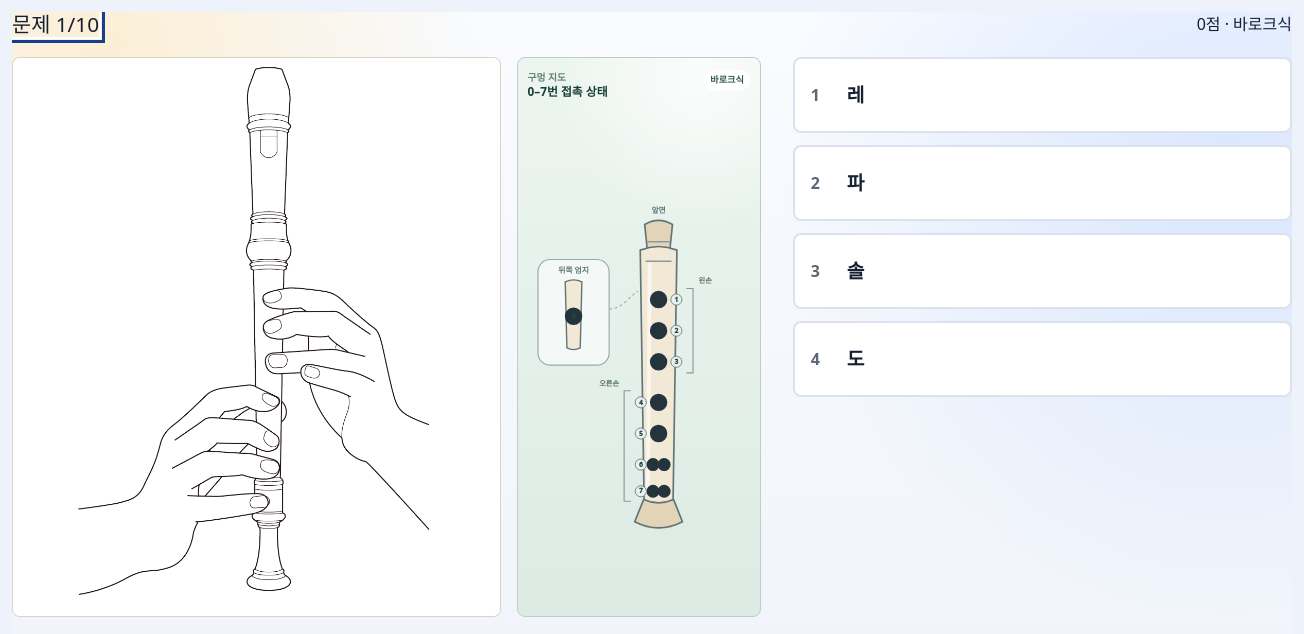
Scenario: locks identify input against double scoring and clears pending work on unmount
This screenshot has width=1304, height=634.
Later steps or results of the test are not shown.
Click the button with test id "quiz-option-1": x=815, y=95 [793, 57, 1292, 133]
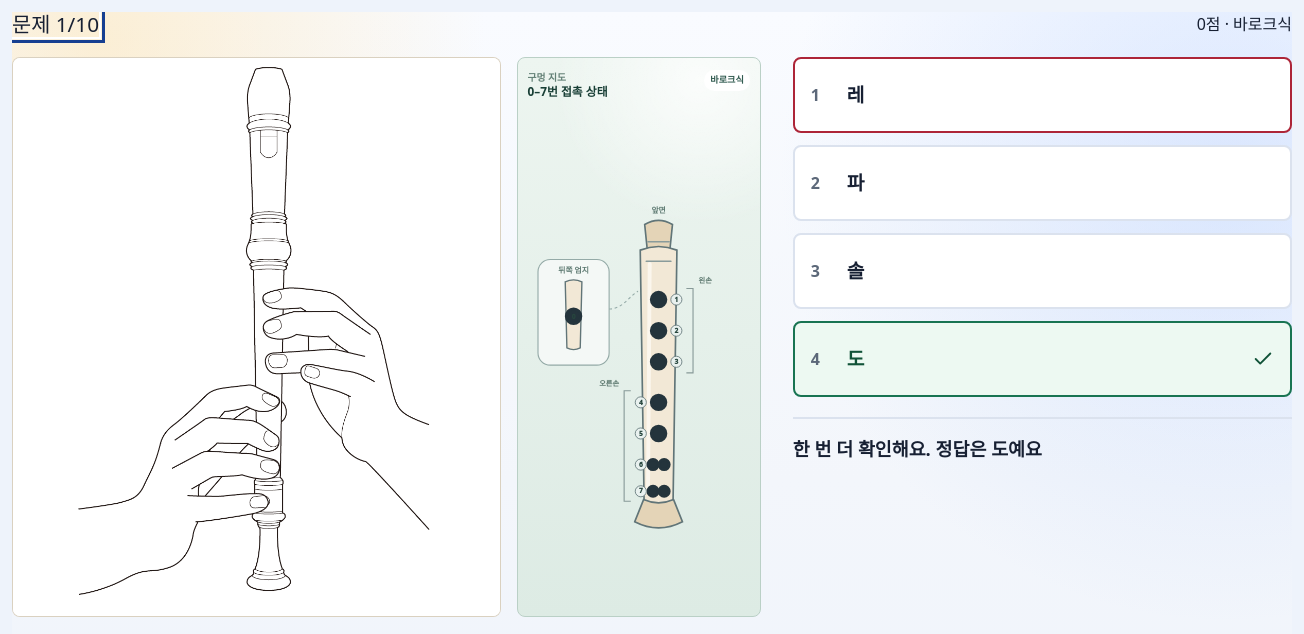
Click the button with test id "quiz-option-1": x=815, y=95 [793, 57, 1292, 133]
Wait 1000 ms
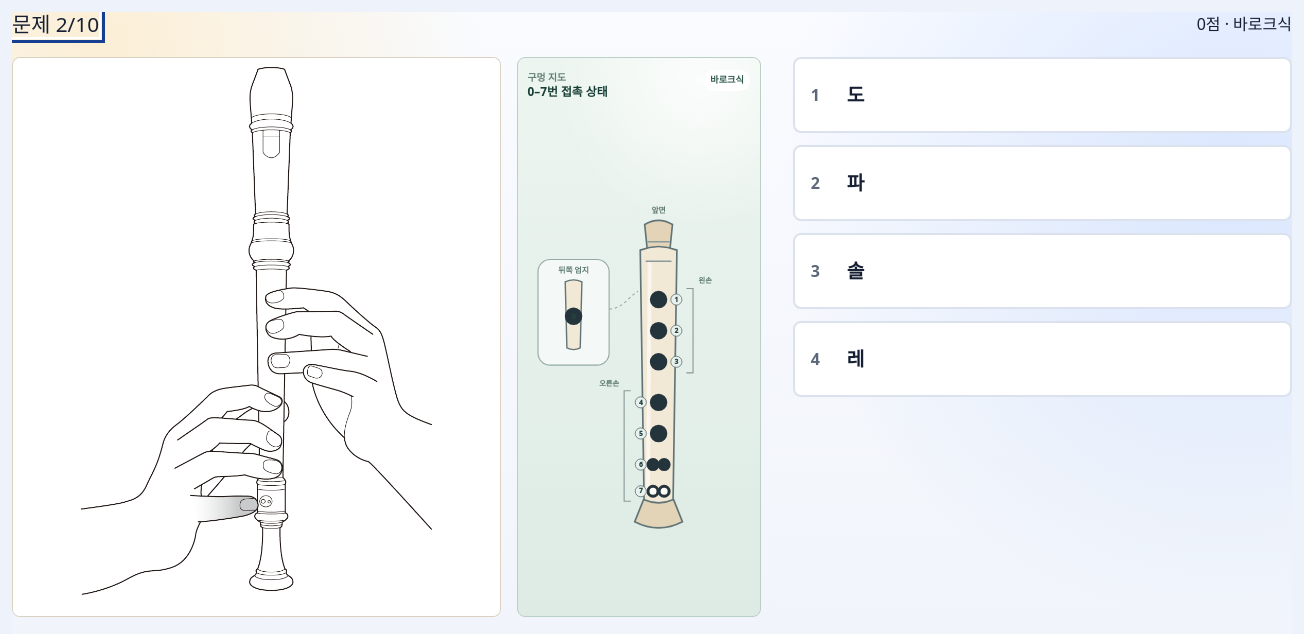
Expected: the heading "문제 2/10" is shown, [12, 12, 99, 37]
